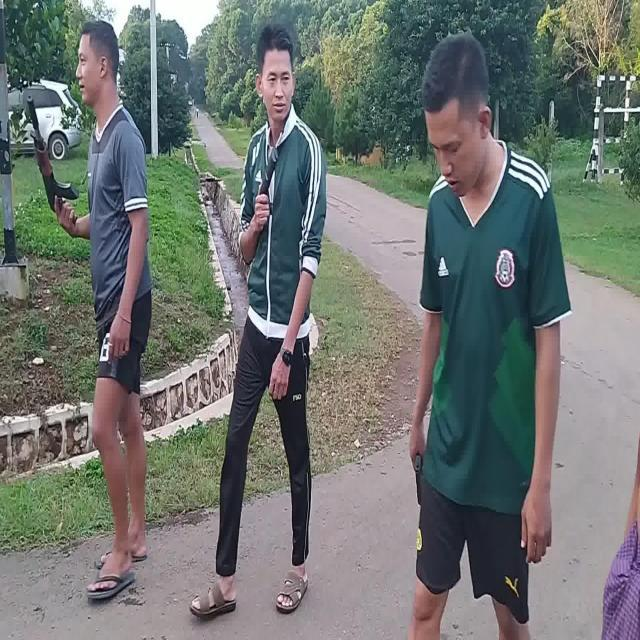gun: (27, 94, 79, 224), (415, 455, 421, 503)
